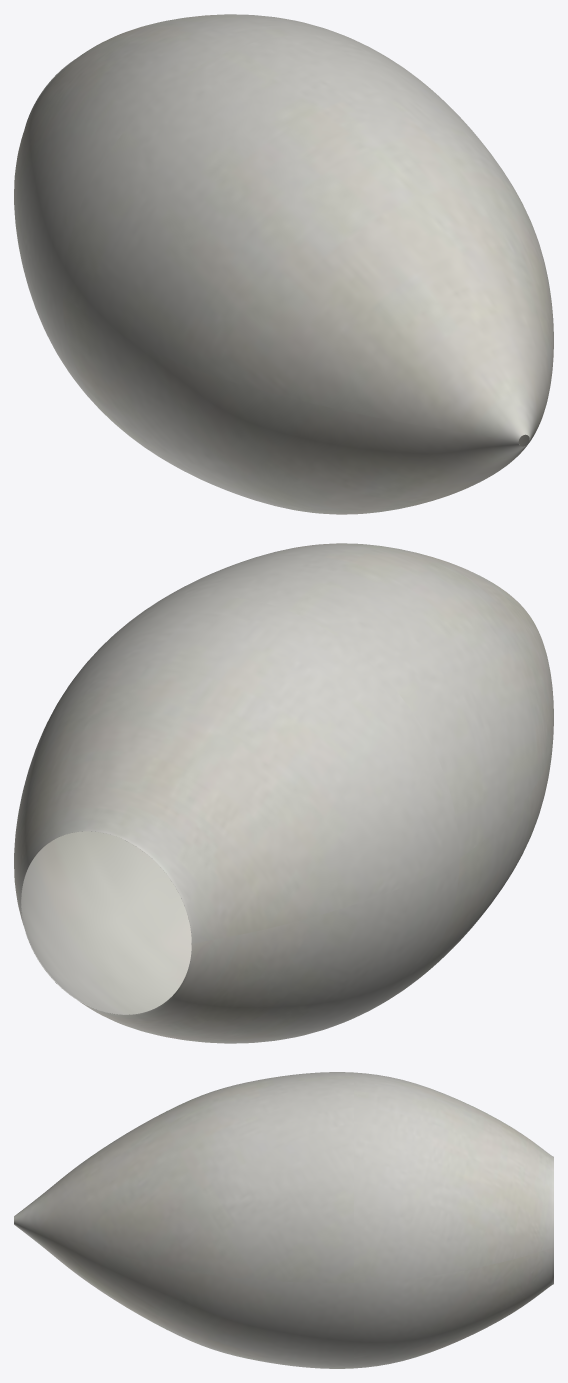
File: RoundWhiteOnionPeel005.obj
3 views of the same model, one above another, from view 1: azimuth 30°, elevation 25°; view 2: azimuth 150°, elevation 25°; view 3: azimuth 270°, elevation 25° (orthographic). The views are drawn at different scales.
Parts seen in each view (by area): view 1: RoundWhiteOnionPeel005; view 2: RoundWhiteOnionPeel005; view 3: RoundWhiteOnionPeel005.
Part boxes in pixels (x1,y1,x2,y2): RoundWhiteOnionPeel005: [14, 14, 553, 514]; RoundWhiteOnionPeel005: [14, 543, 553, 1043]; RoundWhiteOnionPeel005: [14, 1072, 553, 1368].
Size of the model in its own units: 0.0509 by 0.0509 by 0.0925.
1 material, 1 textured.
